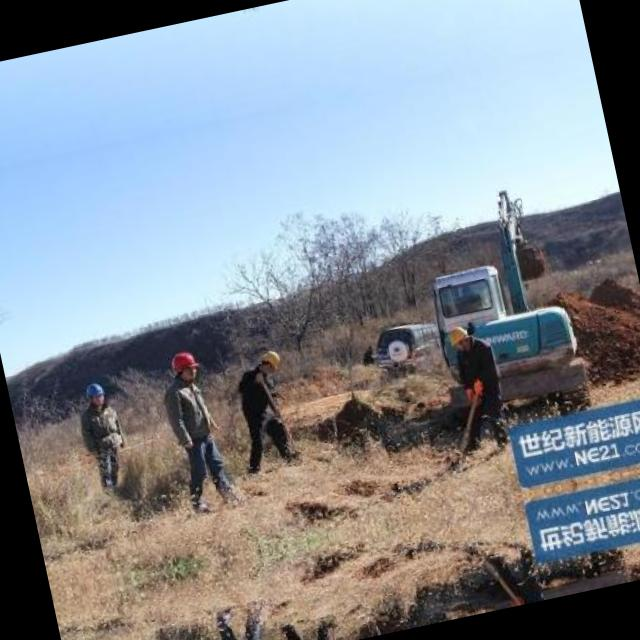helmet: (74, 373, 113, 413), (166, 344, 200, 382), (251, 349, 285, 380), (446, 324, 476, 354)
